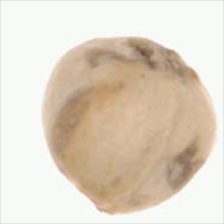L4: (42, 36, 216, 217)
